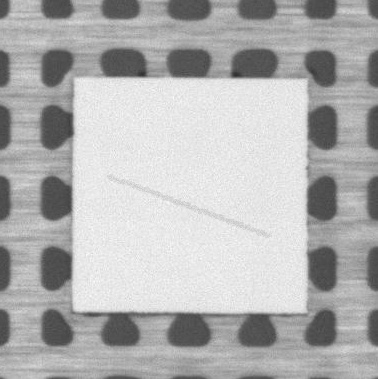DIE_CRACK: (110, 177, 269, 237)
